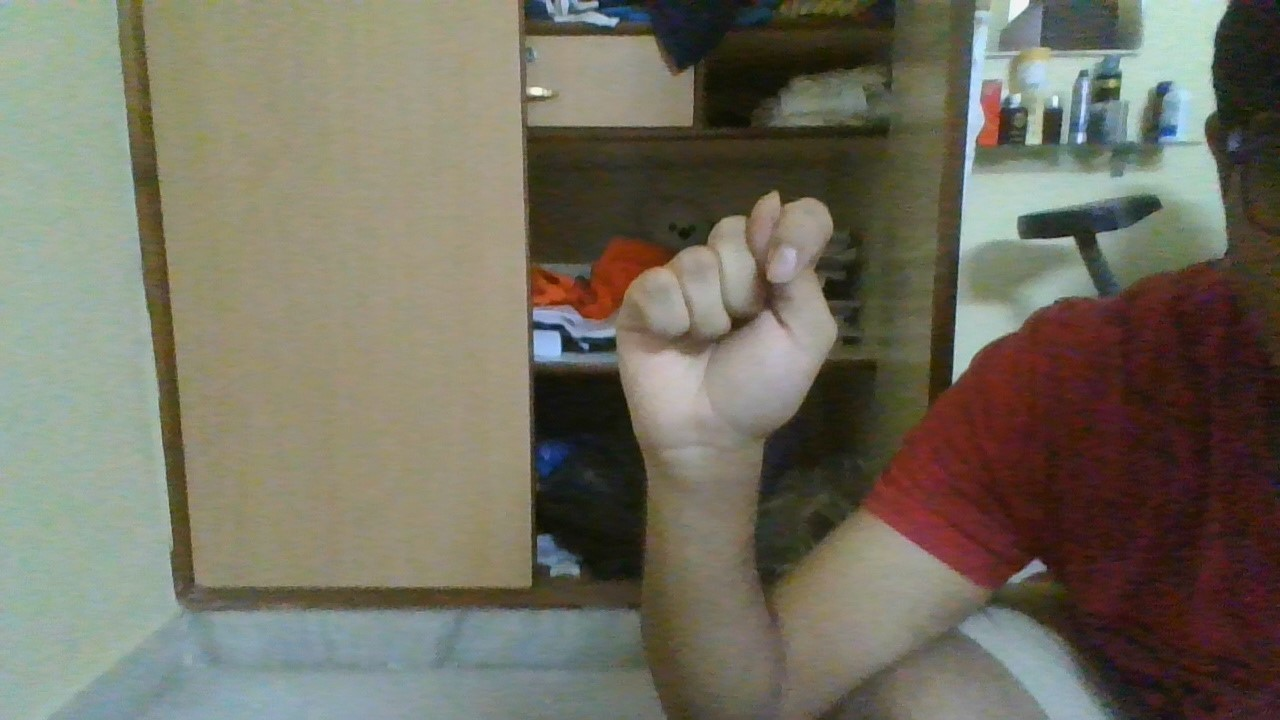t: (611, 186, 843, 463)
